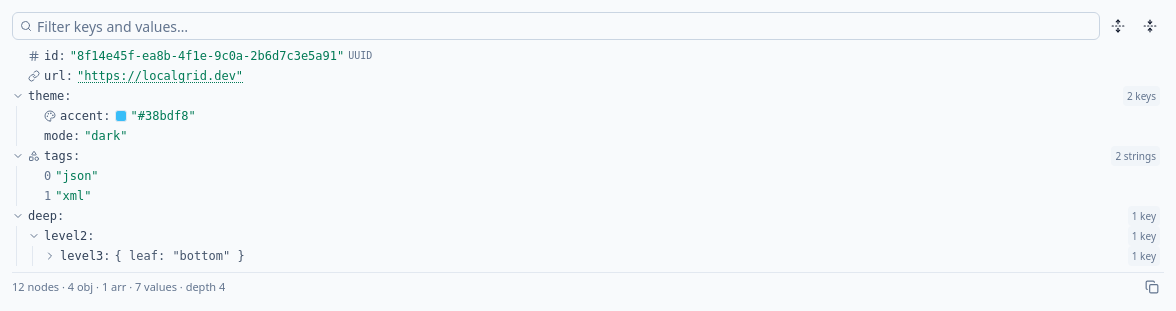
Test: DataTree › says so when a filter matches nothing
Type "nosuchkey" into the field named "filter json tree" at x=556, y=26, box [12, 12, 1100, 40]
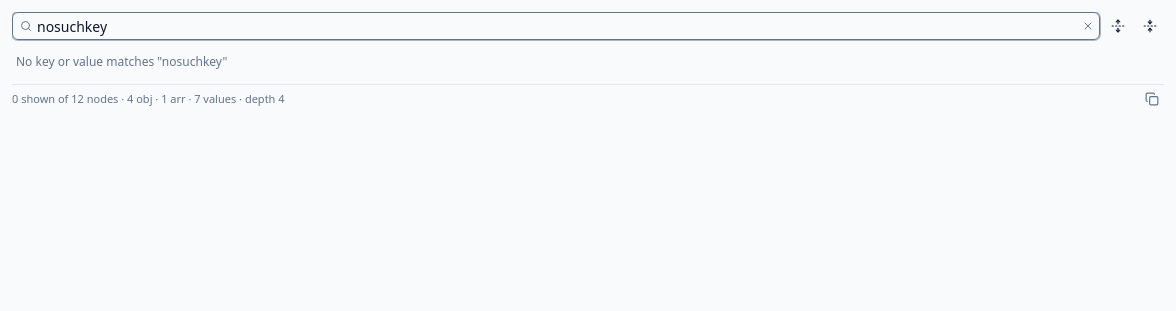
expect the text "No key or value matches \"nosuchkey\"" is shown: met, box [16, 53, 227, 70]
